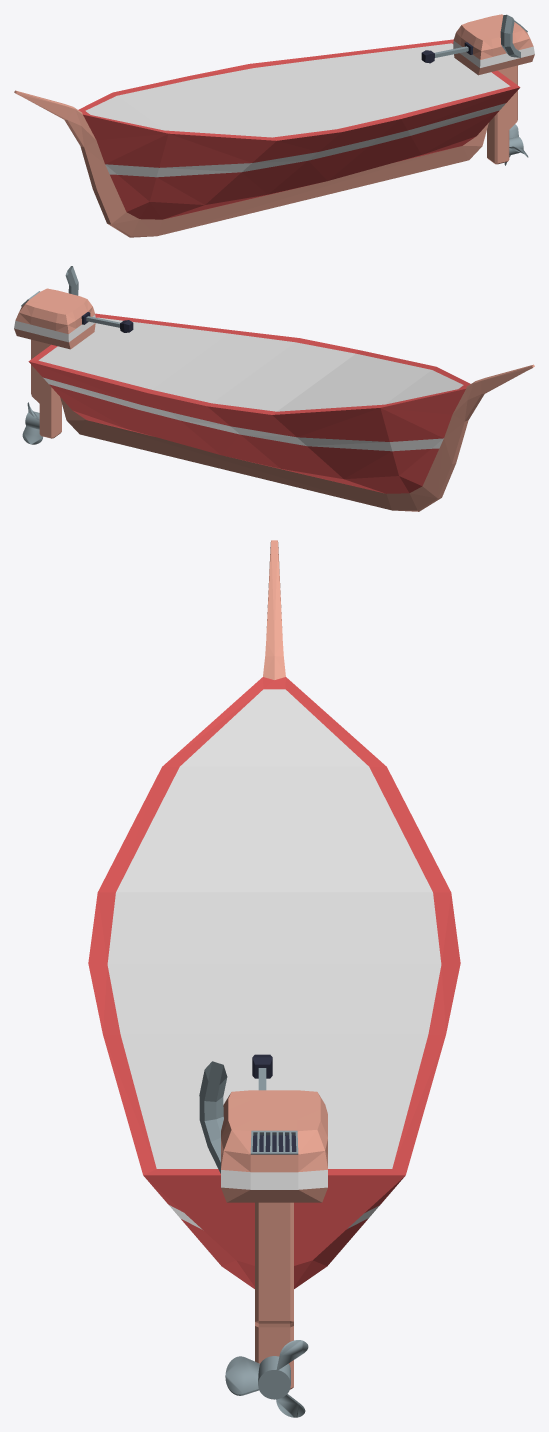
File: Boat.fbx
The picture shows the model from 3 angles, top to bottom: view 1: azimuth 30°, elevation 25°; view 2: azimuth 150°, elevation 25°; view 3: azimuth 270°, elevation 25°; orthographic projection. The views are drawn at different scales.
Parts seen in each view (by area): view 1: Hull, Cover, Cube, Motor Shaft, Torus, Fan; view 2: Hull, Cover, Cube, Motor Shaft, Fan; view 3: Cover, Hull, Cube, Motor Shaft, Fan, Torus.
Boxes of the visible parts, x1,y1,x2,y2 form: Hull: [14, 39, 520, 237]; Cover: [85, 43, 510, 137]; Cube: [421, 14, 534, 75]; Motor Shaft: [487, 65, 517, 164]; Torus: [500, 14, 520, 57]; Fan: [504, 124, 528, 165]; Hull: [28, 313, 534, 511]; Cover: [38, 317, 463, 411]; Cube: [14, 288, 133, 349]; Motor Shaft: [31, 339, 61, 438]; Fan: [22, 402, 42, 444]; Cover: [107, 689, 441, 1168]; Hull: [88, 540, 460, 1288]; Cube: [221, 1054, 327, 1202]; Motor Shaft: [255, 1202, 293, 1389]; Fan: [225, 1340, 308, 1417]; Torus: [199, 1061, 227, 1173].
Size of the model in its own units: 3.59 by 1.33 by 1.14.
